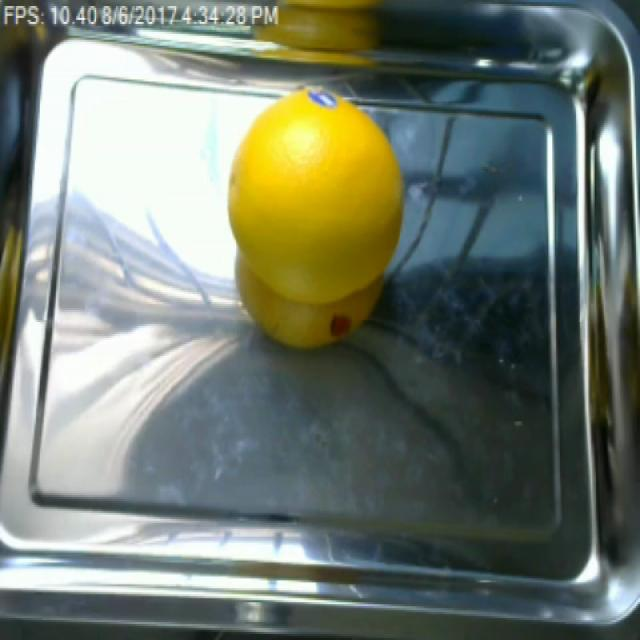Fruit: (220, 89, 407, 354), (247, 0, 405, 60)
